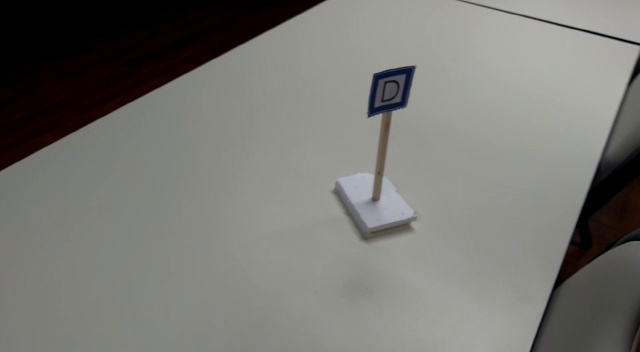durak: (367, 64, 415, 118)
